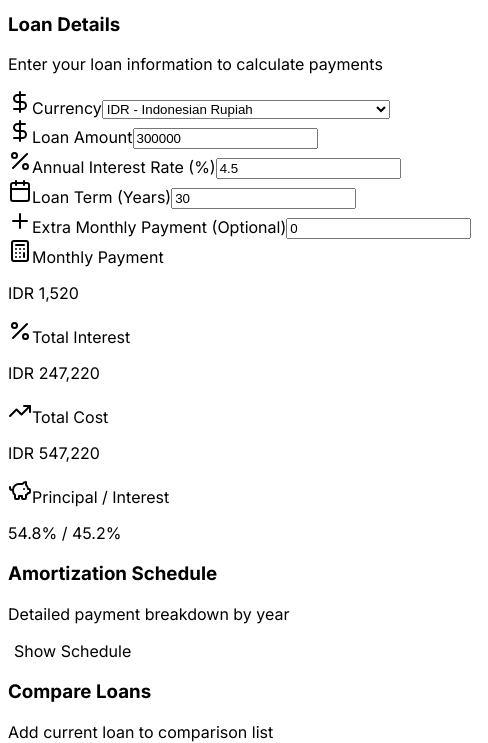
Test case: Loan Calculator Page › Amortization Schedule › hides schedule when toggle button is clicked again
(page scrolled)
# Show schedule
What coordinates should you click on to do the following:
click the button "Show Schedule"
I would click on:
 (73, 651)
Its box is [8,640,137,662].
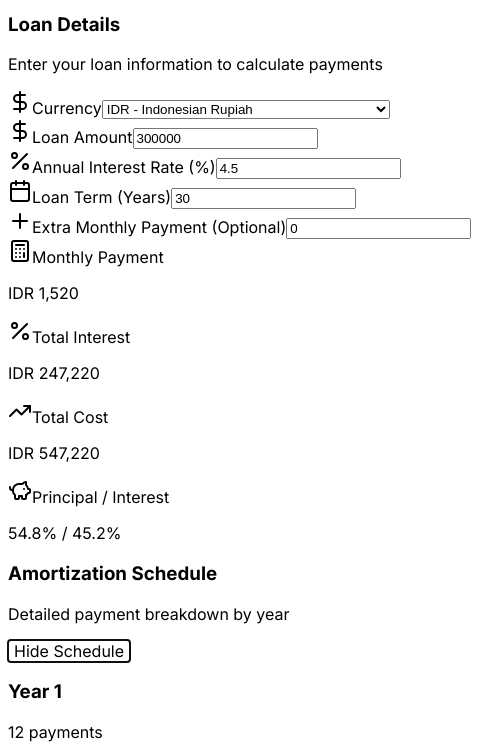
Now the heading "Year 1" is shown, box [8,680,62,704]
# Hide schedule
What coordinates should you click on to do the following:
click the button "Hide Schedule"
I would click on:
 (69, 651)
Its box is [8,640,130,662].
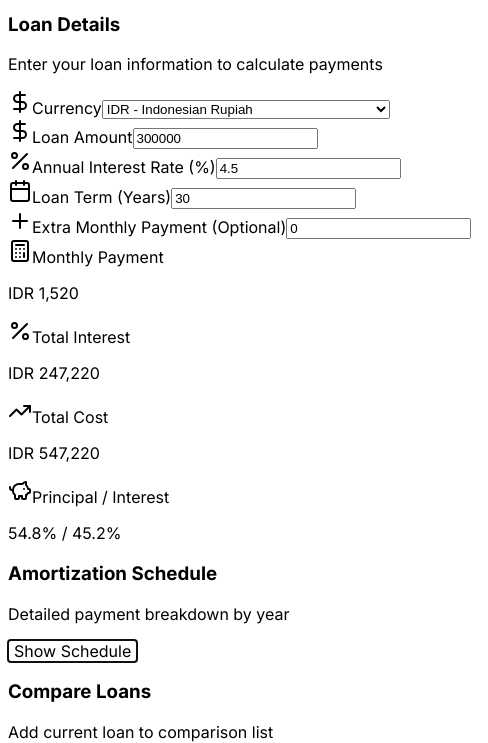
Now the heading "Year 1" is gone
